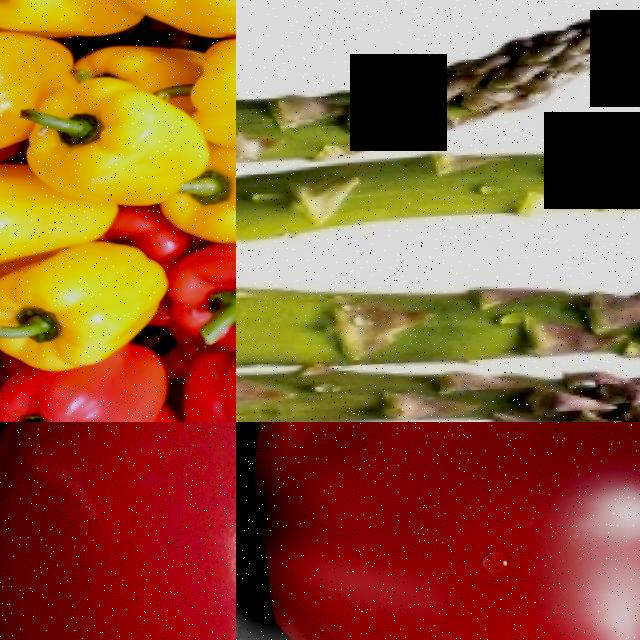apple: (236, 422, 640, 640), (0, 422, 236, 640)
asparagus: (236, 229, 640, 387), (236, 1, 630, 143), (236, 137, 640, 273), (243, 338, 640, 422)
bell pepper: (0, 245, 153, 372), (30, 85, 178, 197), (175, 12, 236, 140), (179, 214, 236, 346), (0, 386, 175, 422), (181, 131, 236, 232), (0, 154, 28, 257), (197, 361, 236, 422)
